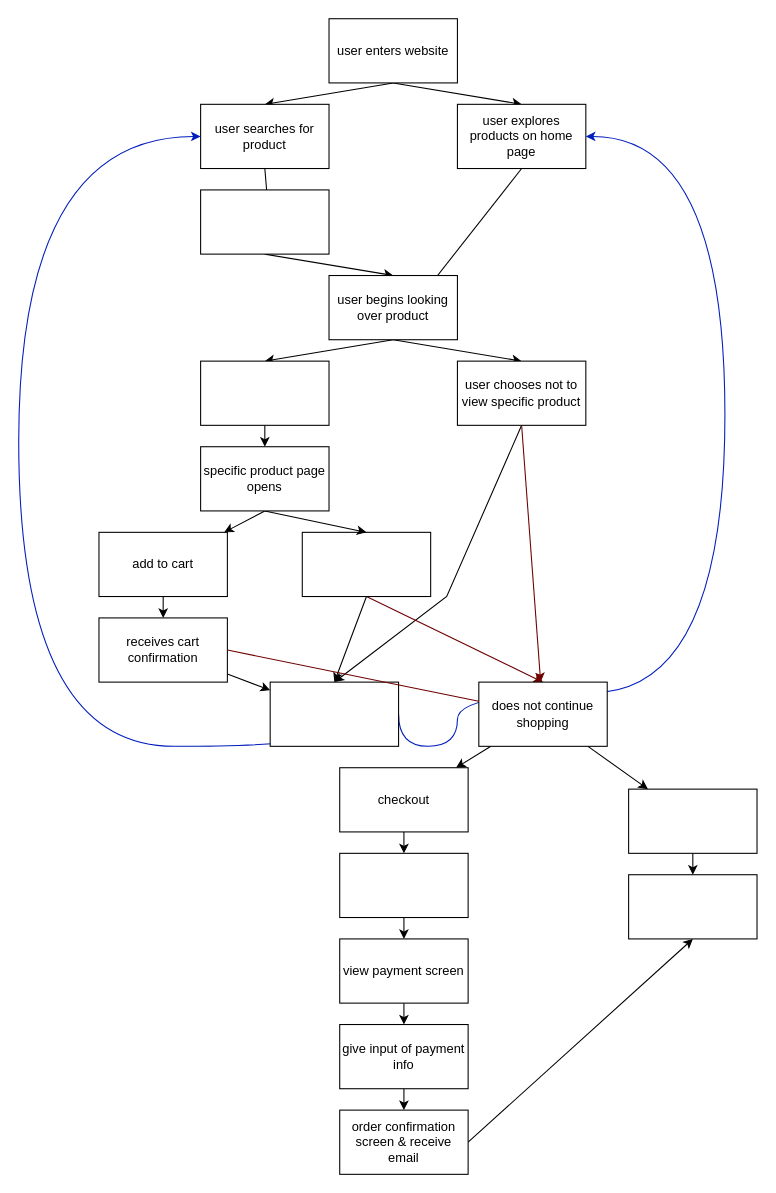
The diagram is 776 pixels wide and 1193 high, and some of its shapes have lost their labels. Here are the shapes that lost their labels. From the top down, the centre of each, then its label:
At pixel 264 221: "user provides input".
At pixel 264 392: "user chooses to view specific product".
At pixel 366 564: "does not add to cart".
At pixel 334 713: "continues shopping".
At pixel 692 820: "does not checkout".
At pixel 403 885: "view cart screen".
At pixel 692 906: "leave website".
